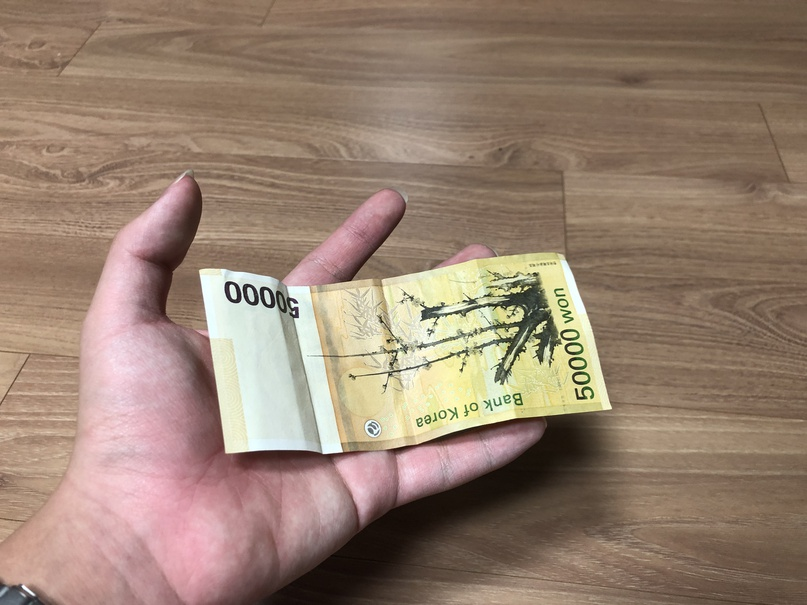50000won: (199, 251, 613, 454)
